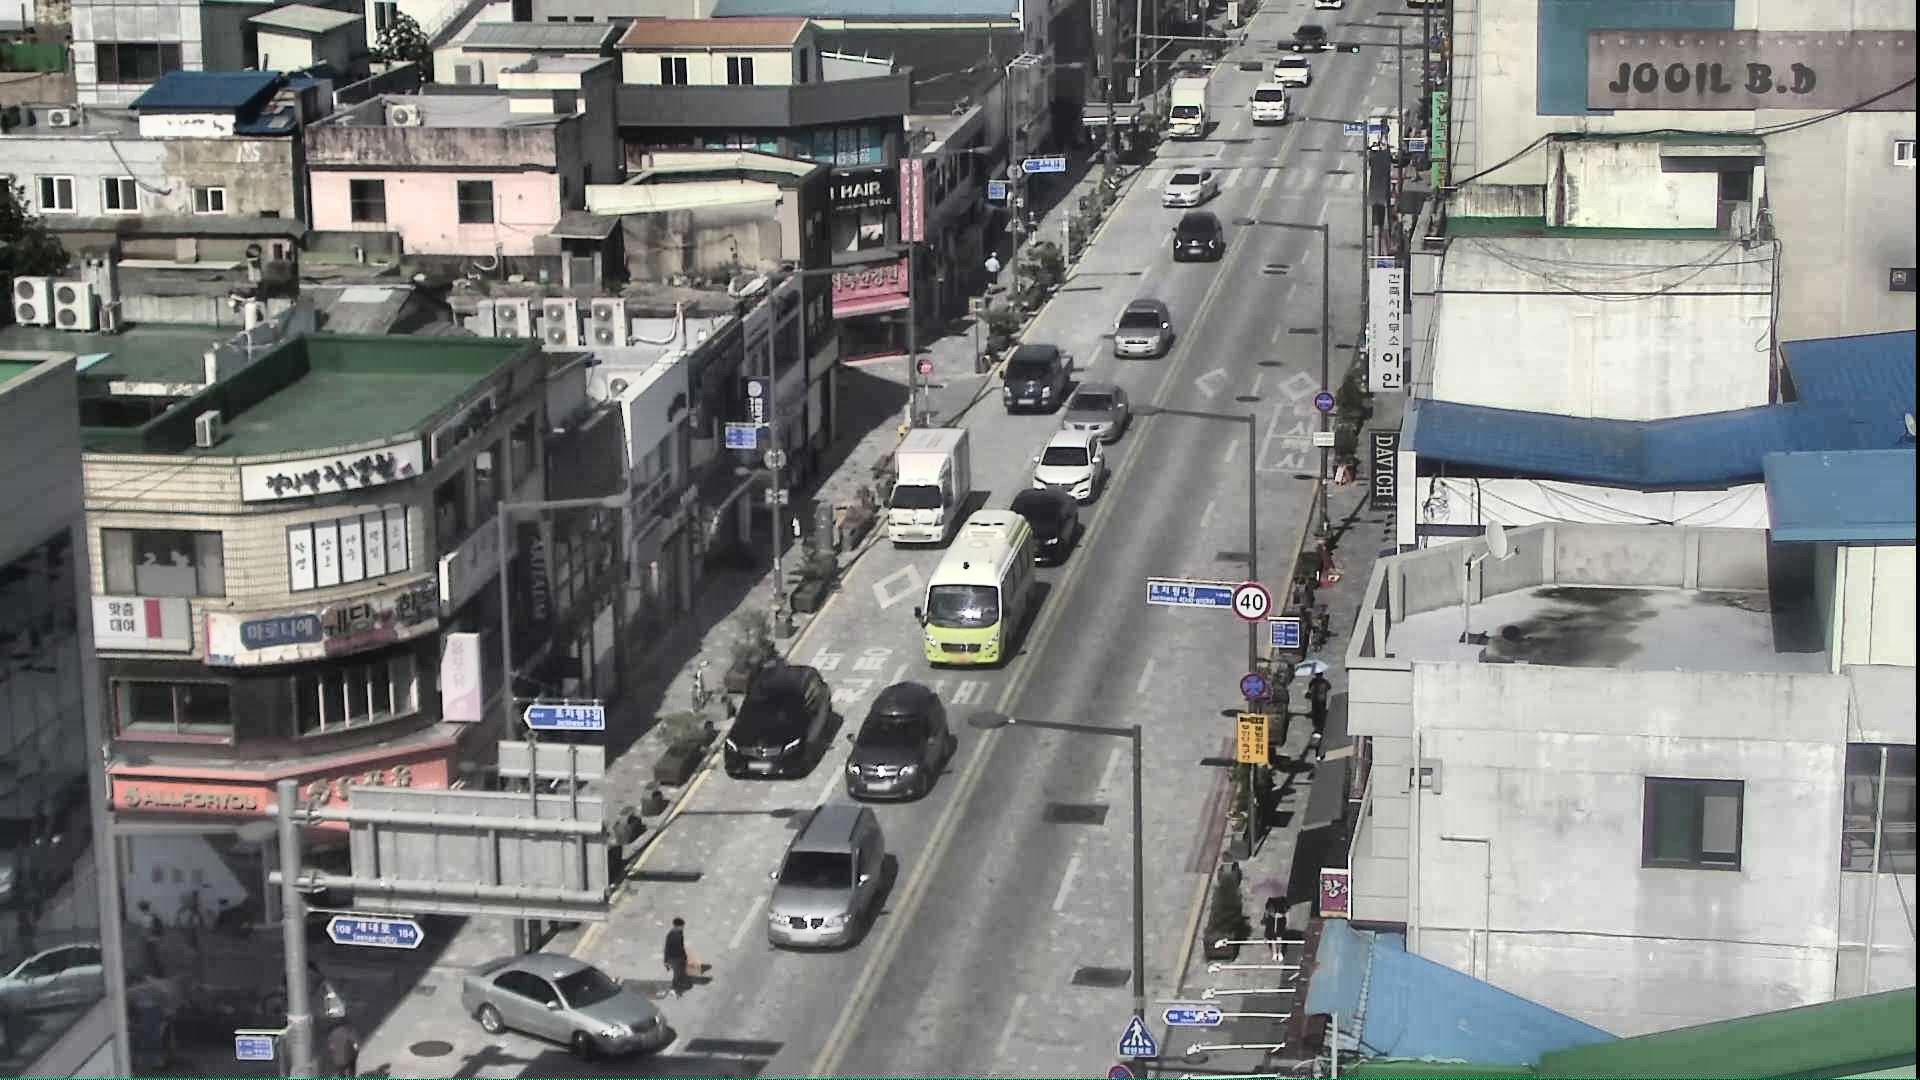jaywalk: (663, 910, 692, 1000), (323, 1013, 363, 1077)
sidewalk: (1025, 206, 1044, 247), (985, 248, 1000, 291)
um_sidewalk: (1250, 874, 1299, 971), (1302, 657, 1335, 733)
